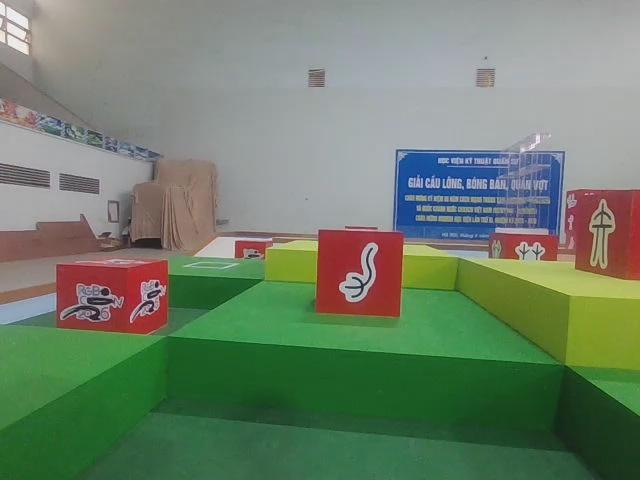R1: (58, 258, 169, 335)
R2 Fake: (574, 192, 640, 282)
R2 Real: (316, 228, 403, 319)
